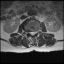CCS_normal: (31, 29, 33, 38)
LFS_normal: (35, 29, 37, 35)
LLS_normal: (33, 29, 35, 36)
RFS_stenosis: (27, 29, 29, 35)
RLS_normal: (29, 29, 32, 36)
